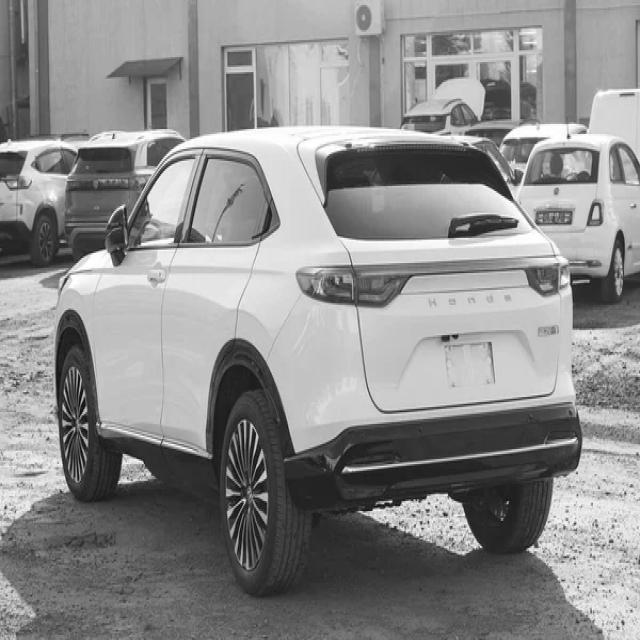Car: (54, 125, 584, 596), (520, 132, 640, 303), (64, 128, 185, 258), (1, 139, 76, 266)
